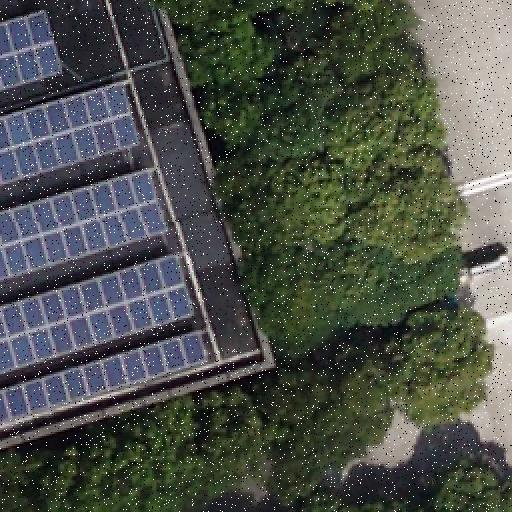solar-panel: (0, 252, 200, 376), (0, 329, 208, 423), (0, 167, 168, 281), (0, 81, 144, 191), (0, 10, 68, 94)
